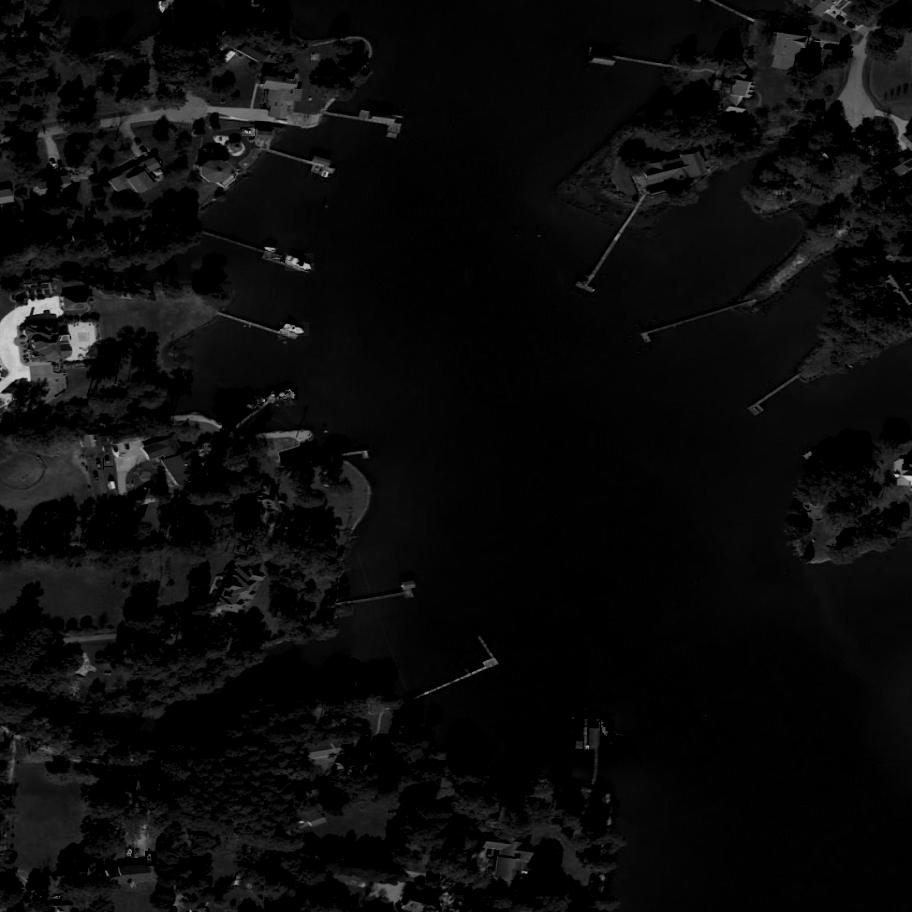ship: (286, 254, 315, 273), (280, 322, 309, 339), (600, 720, 614, 742), (279, 386, 298, 400), (145, 851, 158, 867), (125, 847, 134, 859)
small-vehicle: (242, 129, 256, 137), (96, 459, 105, 471), (105, 456, 114, 467)
